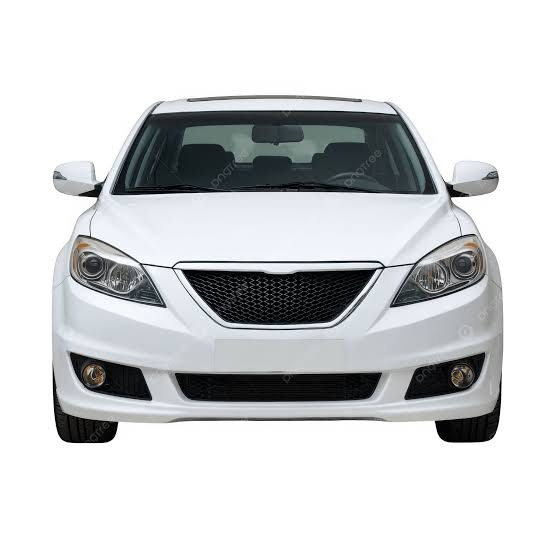car: (51, 91, 508, 427), (38, 93, 498, 422)
